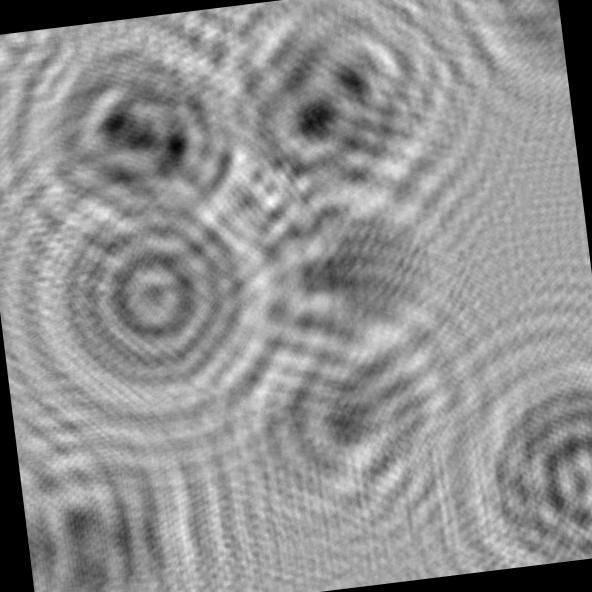B: (0, 6, 251, 245)
F: (409, 0, 572, 133)
H: (15, 412, 223, 592)
J: (224, 309, 486, 534)
O: (12, 163, 286, 442)
Q: (445, 349, 592, 573)
R: (174, 0, 439, 248)
V: (211, 164, 480, 392)
